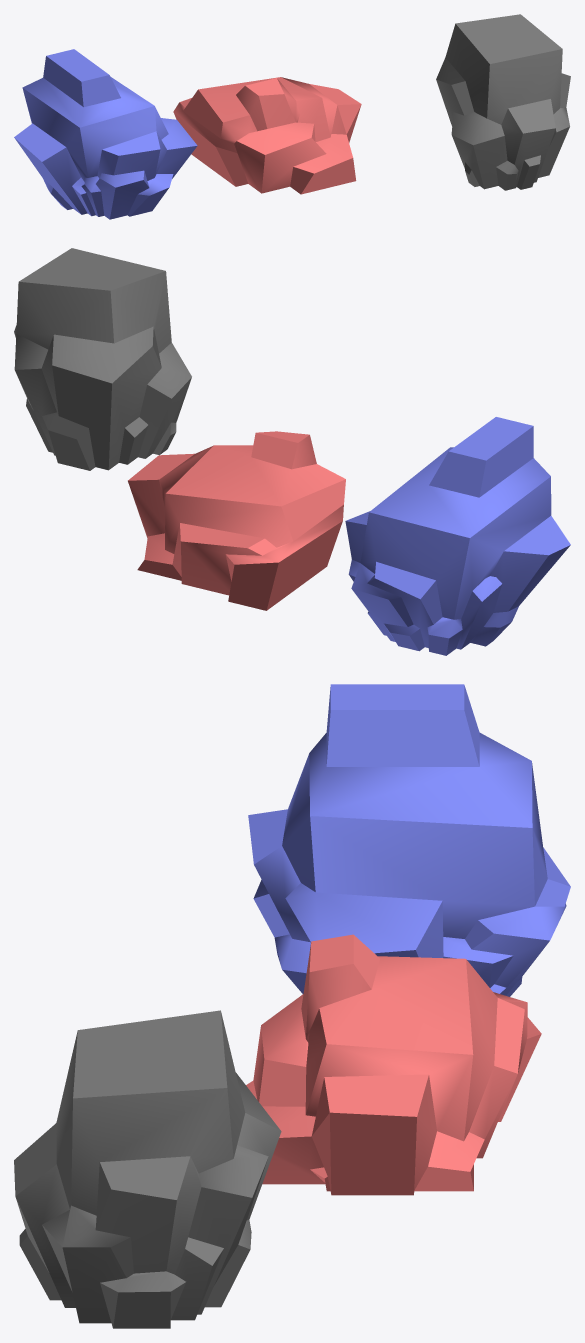
Rendered from IronOre.FBX.
The picture shows the model from 3 angles, top to bottom: view 1: azimuth 30°, elevation 25°; view 2: azimuth 150°, elevation 25°; view 3: azimuth 270°, elevation 25°; orthographic projection. The views are drawn at different scales.
Visible parts, largest first — view 1: IronOre_1, IronOre_3, IronOre_2; view 2: IronOre_1, IronOre_3, IronOre_2; view 3: IronOre_1, IronOre_3, IronOre_2.
Part boxes in pixels (x1=…): IronOre_1: x1=14, y1=49, x2=197, y2=219; IronOre_3: x1=436, y1=14, x2=570, y2=190; IronOre_2: x1=173, y1=77, x2=361, y2=194; IronOre_1: x1=345, y1=417, x2=570, y2=655; IronOre_3: x1=14, y1=248, x2=191, y2=470; IronOre_2: x1=128, y1=431, x2=345, y2=610; IronOre_1: x1=248, y1=684, x2=570, y2=996; IronOre_3: x1=14, y1=1010, x2=281, y2=1328; IronOre_2: x1=246, y1=934, x2=541, y2=1195.
Size of the model in its own units: 169 by 50.06 by 91.54.
